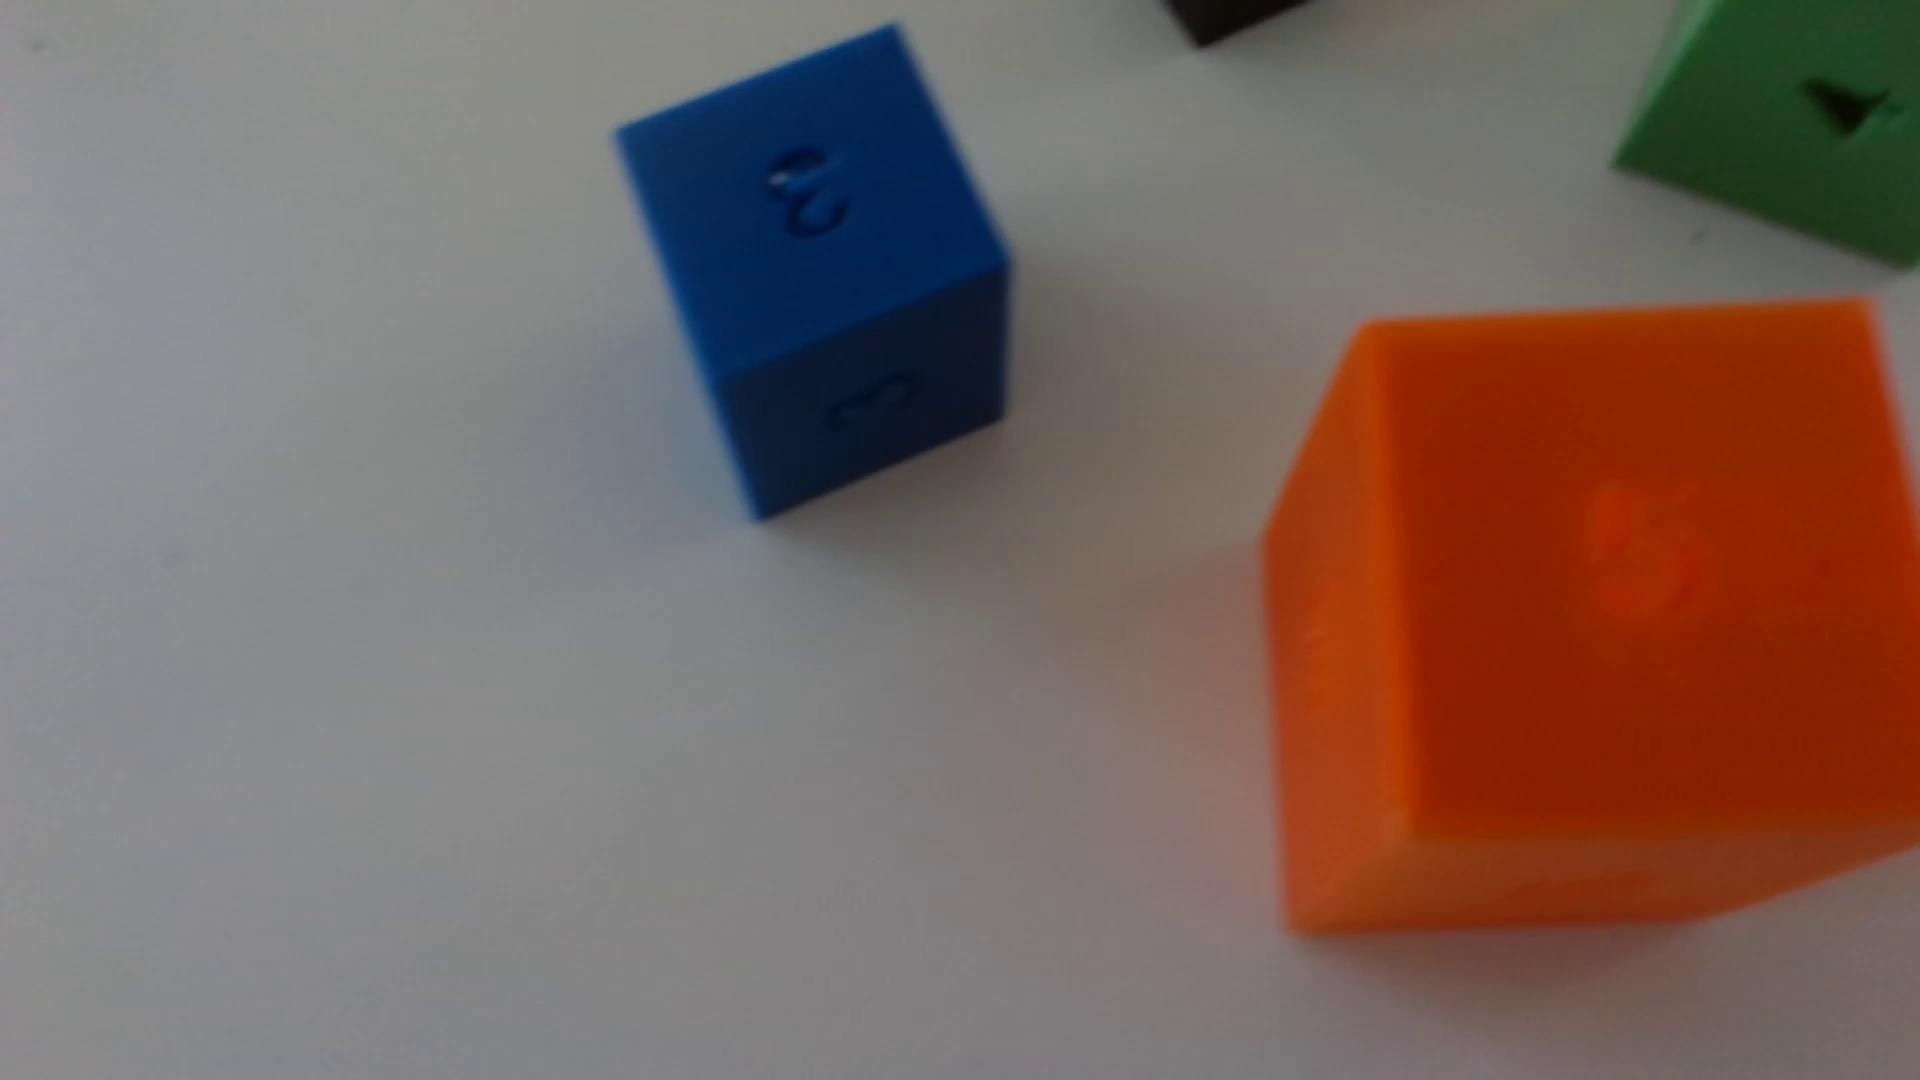black: (1163, 0, 1305, 49)
blue: (616, 26, 1011, 520)
green: (1615, 0, 1920, 269)
orange: (1263, 301, 1920, 936)
